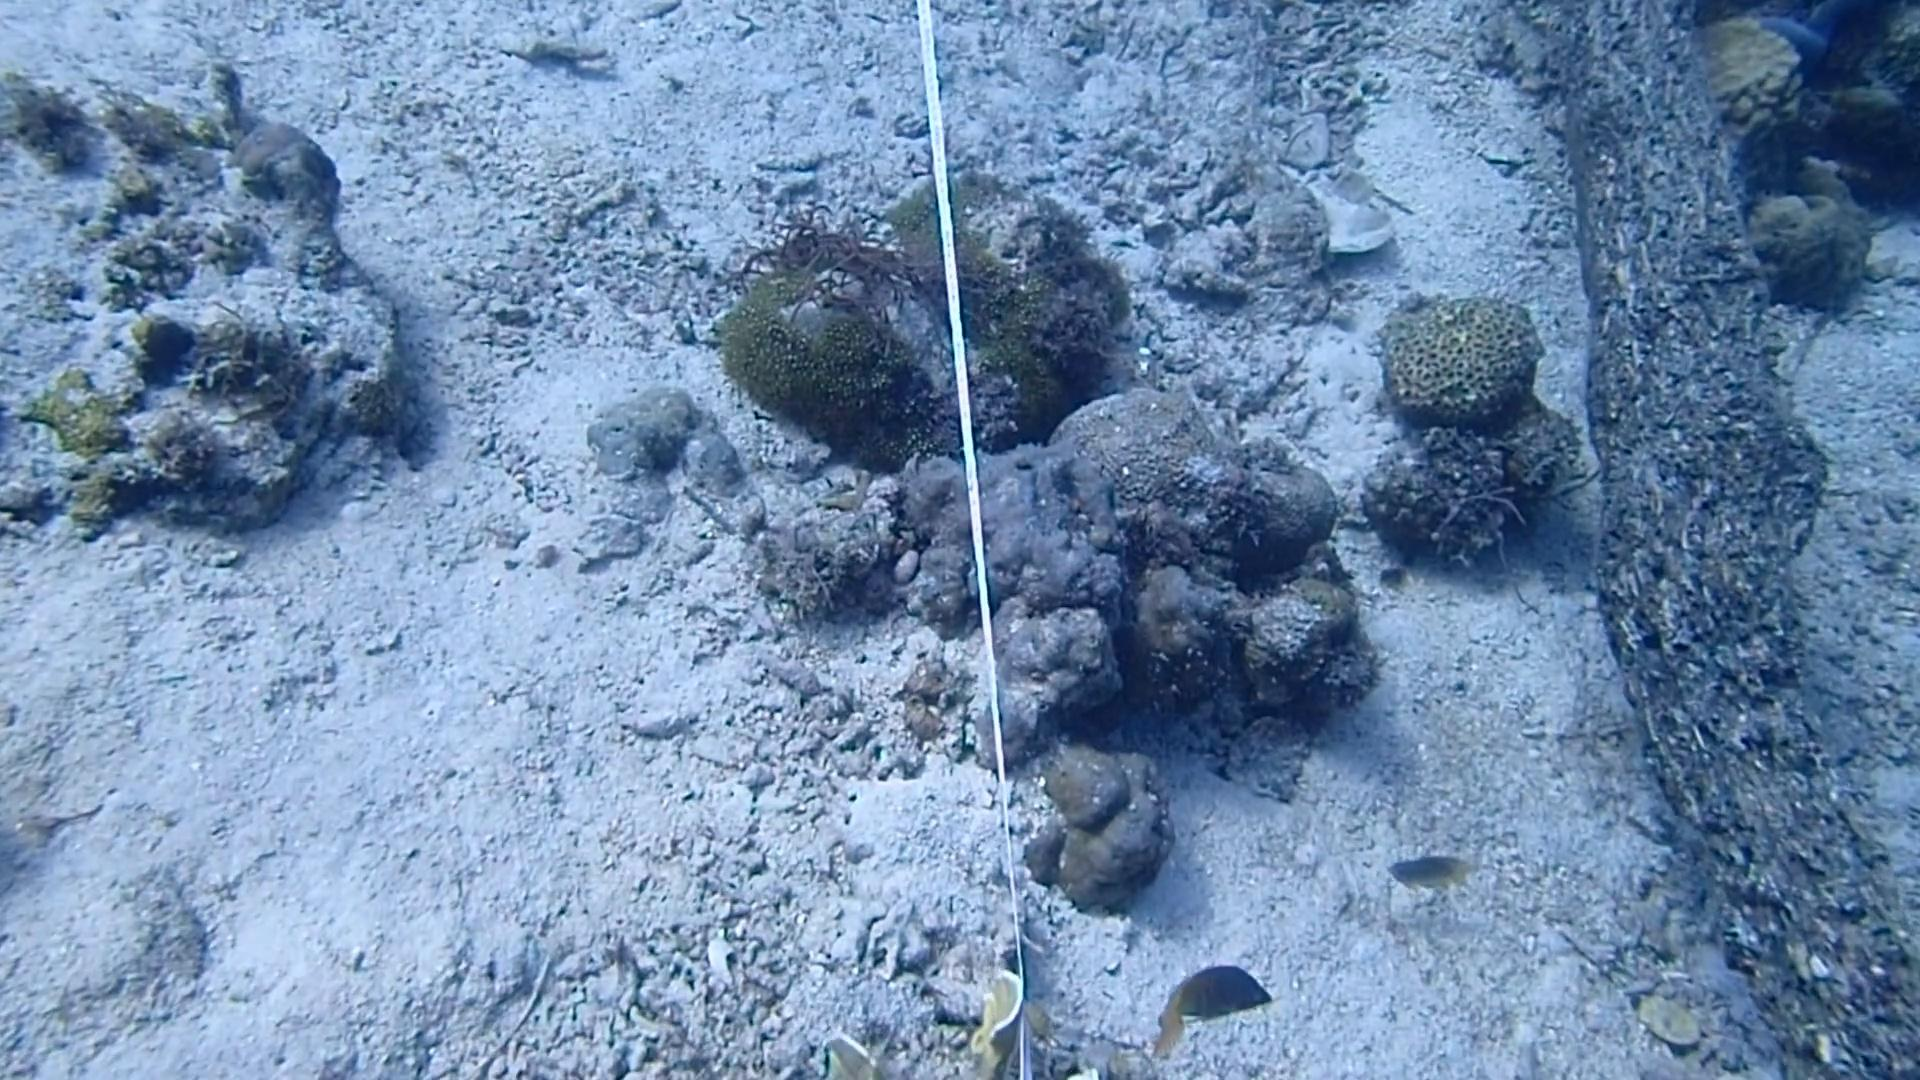Light Fish: (1378, 839, 1470, 914)
Yellow-Blue Fish: (1137, 956, 1283, 1060)
